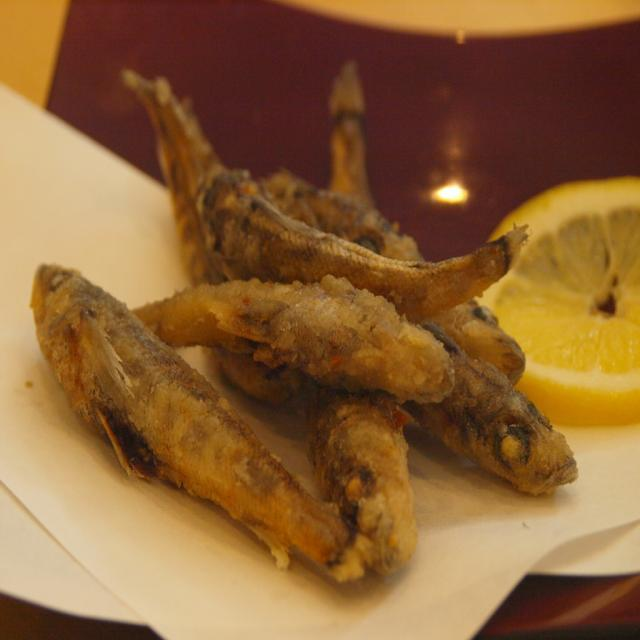Lemon: (473, 172, 639, 426)
